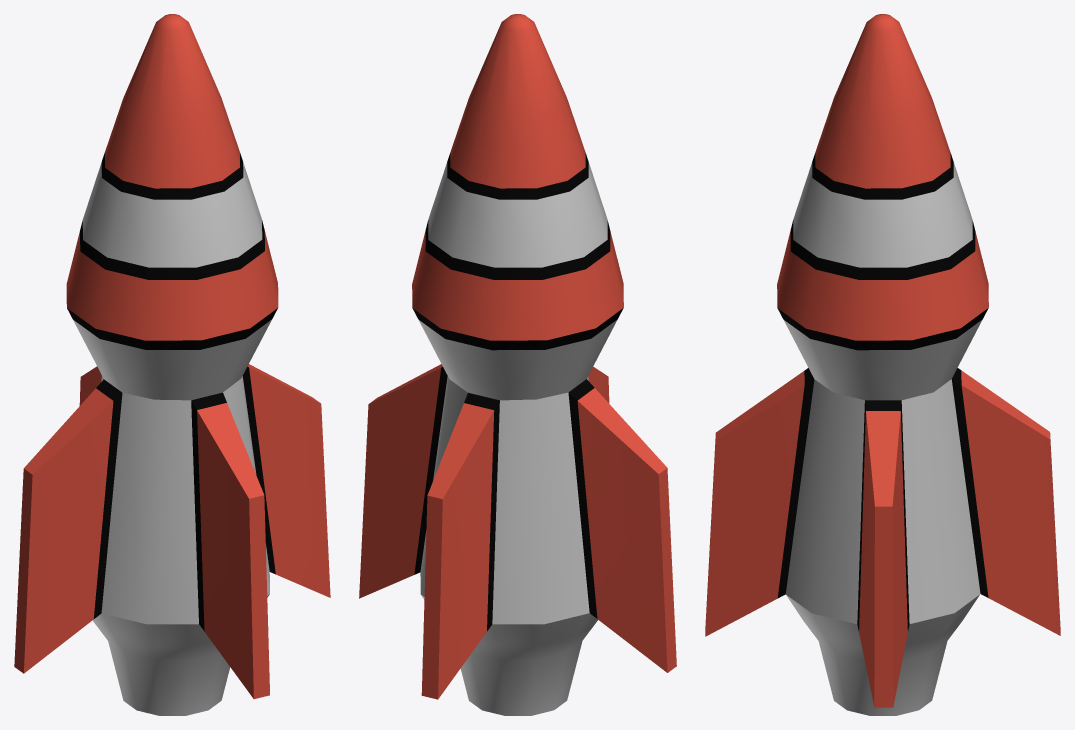
Rendered from Roket.fbx.
3 renders of one model, left to right at view 1: azimuth 30°, elevation 25°; view 2: azimuth 150°, elevation 25°; view 3: azimuth 270°, elevation 25°, orthographic.
Parts seen in each view (by area): view 1: Rocket07; view 2: Rocket07; view 3: Rocket07.
Part boxes in pixels (x1,y1,x2,y2): Rocket07: [14, 14, 330, 715]; Rocket07: [359, 14, 676, 715]; Rocket07: [705, 14, 1060, 715].
Size of the model in its own units: 2.61 by 5.52 by 2.61.
